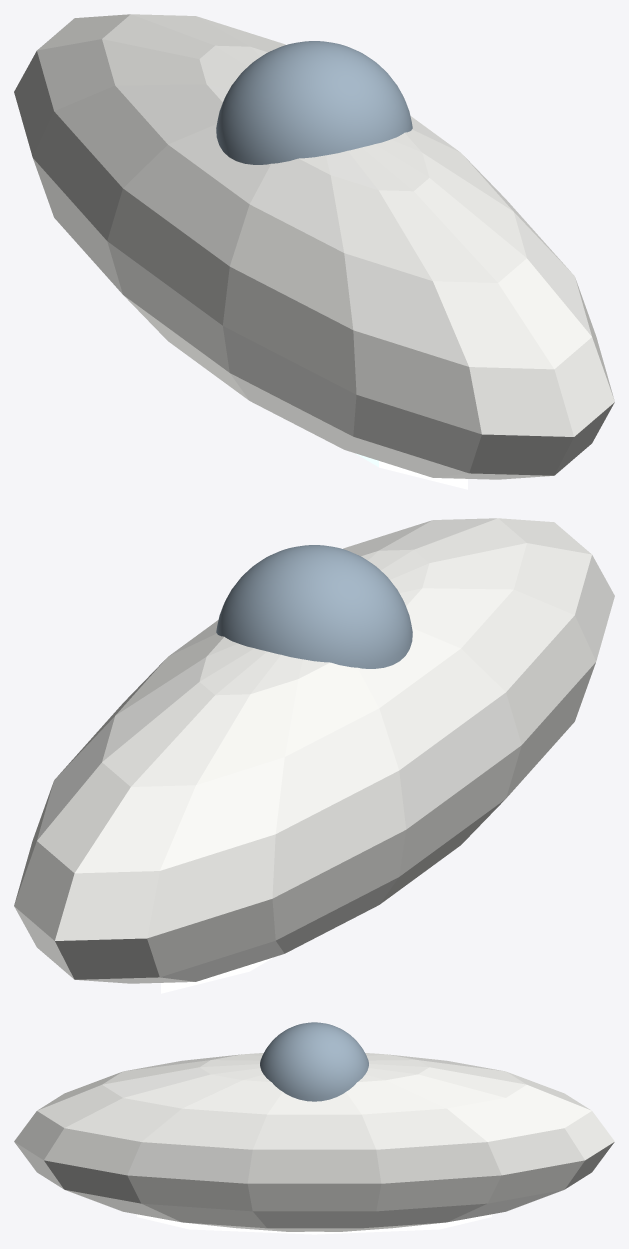
File: tictac.glb
3 renders of one model, top to bottom at view 1: azimuth 30°, elevation 25°; view 2: azimuth 150°, elevation 25°; view 3: azimuth 270°, elevation 25°, orthographic. The views are drawn at different scales.
Parts seen in each view (by area): view 1: tictac, dome.006; view 2: tictac, dome.006; view 3: tictac, dome.006.
Boxes of the visible parts, x1,y1,x2,y2 form: tictac: (14, 14, 614, 489); dome.006: (216, 41, 412, 164); tictac: (14, 518, 614, 993); dome.006: (216, 545, 412, 668); tictac: (14, 1053, 614, 1234); dome.006: (260, 1022, 368, 1101).
Bounding box in the file's own units: 1.46 × 1.58 × 4.4.
